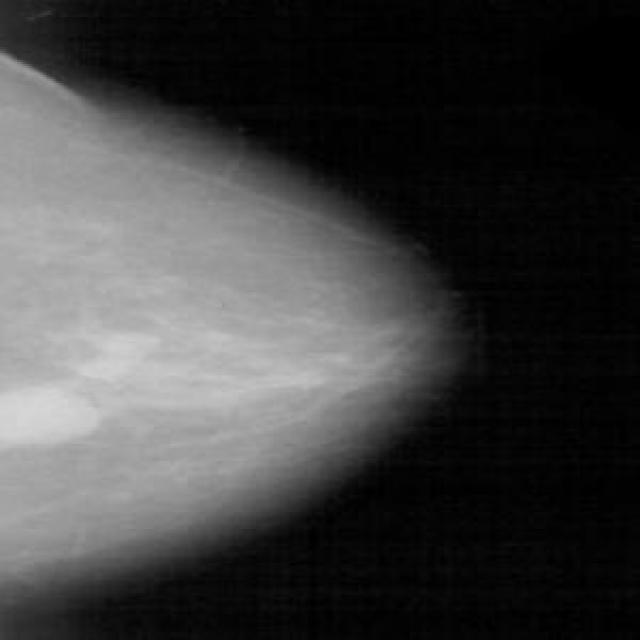tumor: (7, 320, 206, 465)
